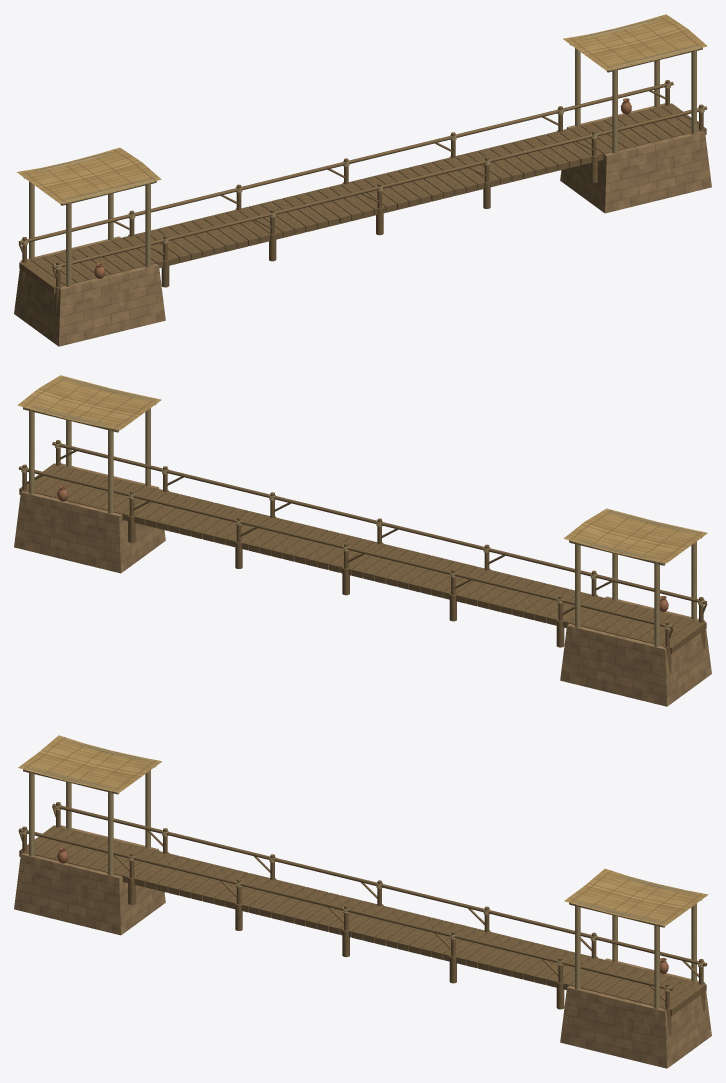
File: bridge.glb
The picture shows the model from 3 angles, top to bottom: view 1: azimuth 30°, elevation 25°; view 2: azimuth 150°, elevation 25°; view 3: azimuth 330°, elevation 25°; orthographic projection.
Parts seen in each view (by area): view 1: bridge-worn-timber, bridge-game-raw-brick-facing, bridge-laid-reed-thatch, bridge-reed-mat; view 2: bridge-worn-timber, bridge-game-raw-brick-facing, bridge-laid-reed-thatch, bridge-reed-mat; view 3: bridge-worn-timber, bridge-game-raw-brick-facing, bridge-laid-reed-thatch, bridge-reed-mat.
Part boxes in pixels (x1,y1,x2,y2): bridge-worn-timber: (18, 80, 707, 313); bridge-game-raw-brick-facing: (14, 103, 711, 346); bridge-laid-reed-thatch: (17, 14, 707, 203); bridge-reed-mat: (21, 19, 704, 286); bridge-worn-timber: (18, 440, 707, 673); bridge-game-raw-brick-facing: (14, 463, 711, 706); bridge-laid-reed-thatch: (17, 375, 707, 562); bridge-reed-mat: (21, 377, 704, 646); bridge-worn-timber: (18, 802, 707, 1035); bridge-game-raw-brick-facing: (14, 825, 711, 1068); bridge-laid-reed-thatch: (18, 735, 708, 926); bridge-reed-mat: (21, 742, 704, 1008).
Size of the model in its own units: 18.03 by 3.75 by 2.14.
5 materials, 5 textured.
